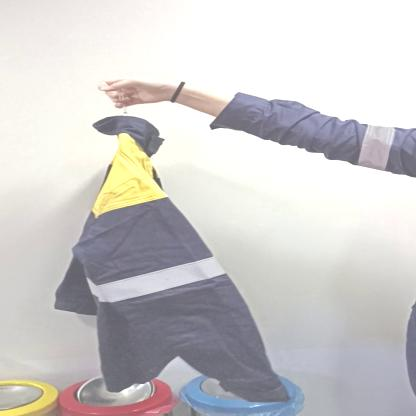C_eletrica: (59, 117, 291, 400)
